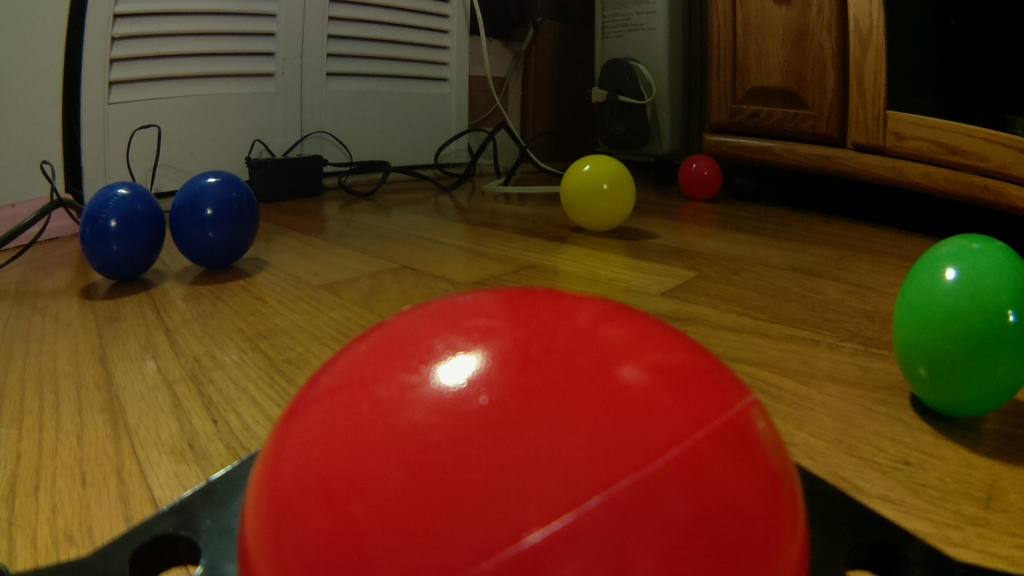ball: (892, 228, 1024, 419)
